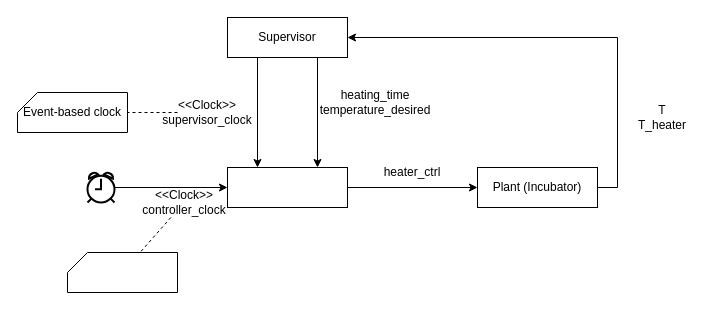
This 704x310 diagram has some shape labels left out. The shapes that lost their labels are listed below. From the top down, each one's centre as x and y in pixels, then its label:
At point 287,187: "Controller".
At point 122,272: "Time-triggered clock".
